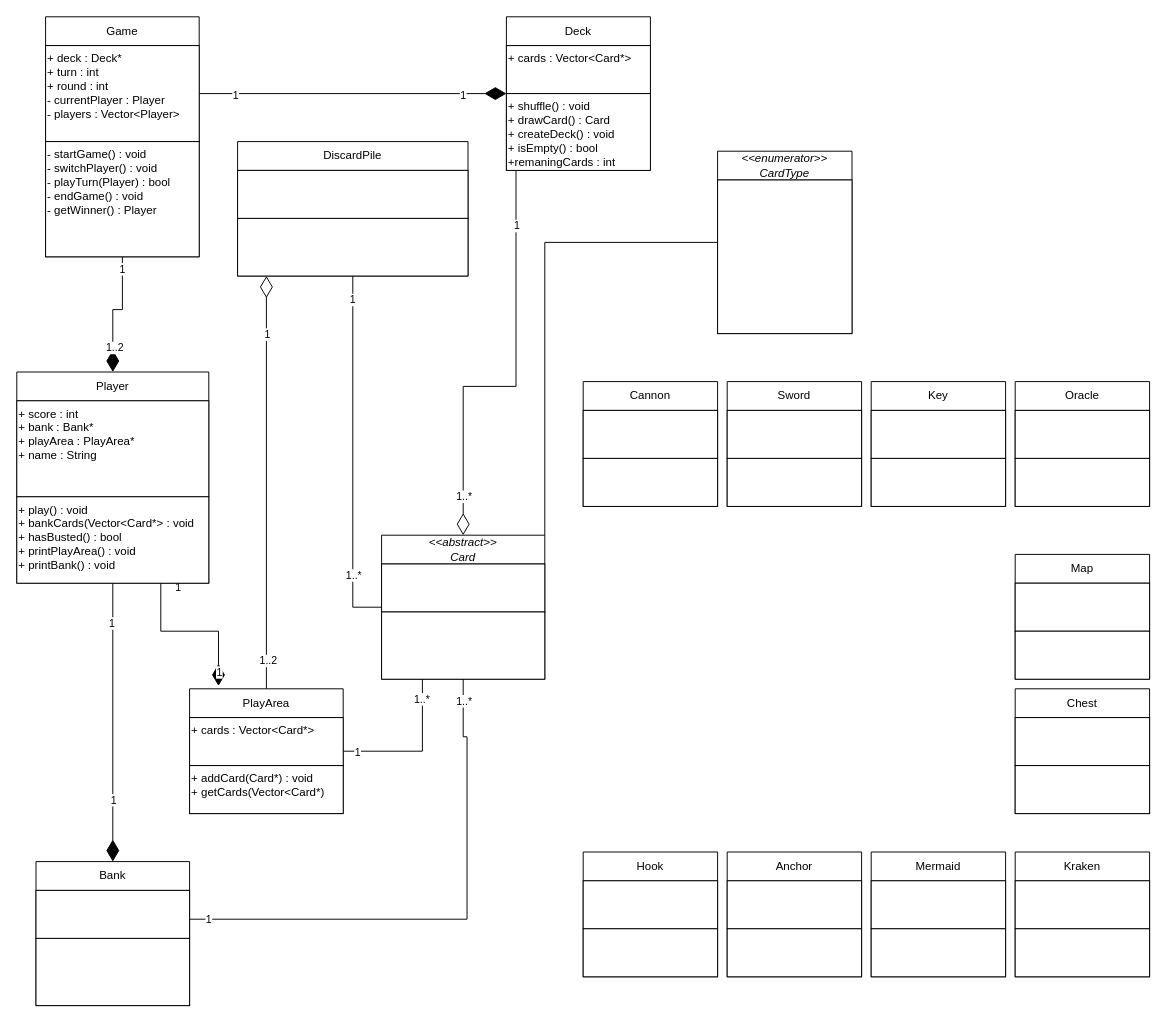
The diagram is 1166 pixels wide and 1022 high, and some of its shapes have lost their labels. Here are the shapes that lost their labels. From the top down, the centre of each, then its label:
At (x=352, y=193): "+ discardedCards : Vector<Card*>".
At (x=352, y=246): "+ addCard(Card) : void + isEmpty() : bool + getCards() : Vector<Card*>".
At (x=784, y=256): "Cannon Sword Key Chest Oracle Hook Anchor Mermaid Kraken Map".
At (x=463, y=587): "+ cardType : CardType + value : int".
At (x=463, y=645): "+ isPlayed() : void + isDiscarded() : void + isBanked() : void".
At (x=112, y=913): "+cards : Vector<Card*>".
At (x=112, y=971): "+ calculateScore() : int + getCards() : Vector<Card*>".
